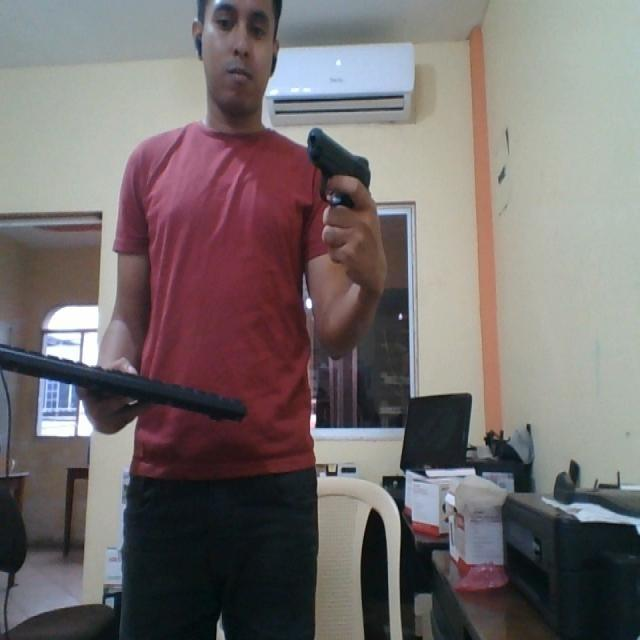weapon: (306, 124, 372, 210)
